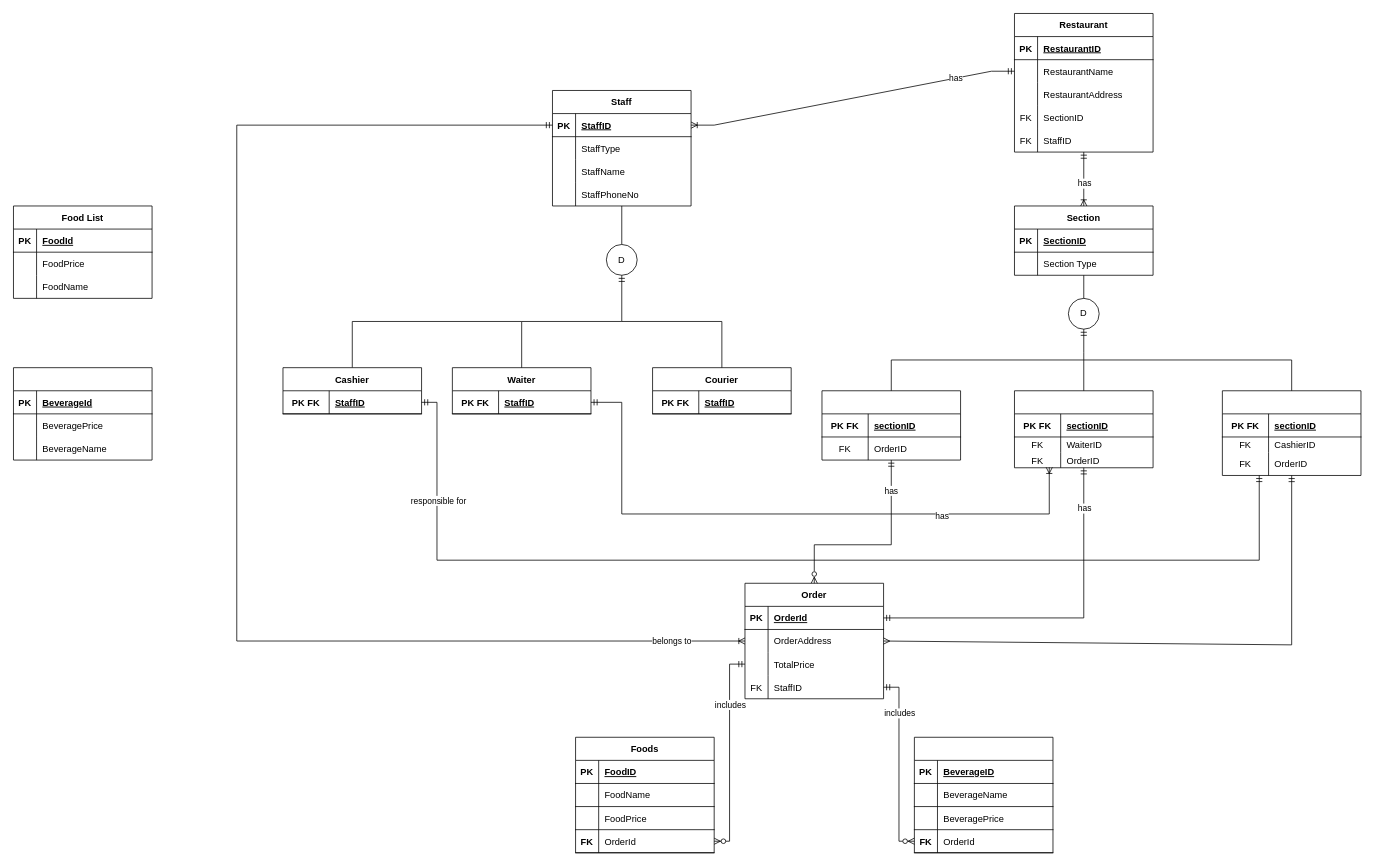
Some shapes in this 1374 by 866 pixel diagram are drawn without their labels. The box of each missing label's shape, as (x1, y1, x2, y2) in pixels:
Beverage List: (13, 367, 152, 460)
Beverages: (914, 737, 1053, 853)
Checkout: (1222, 390, 1361, 475)
Kitchen: (821, 390, 961, 460)
Tables: (1014, 390, 1153, 468)
